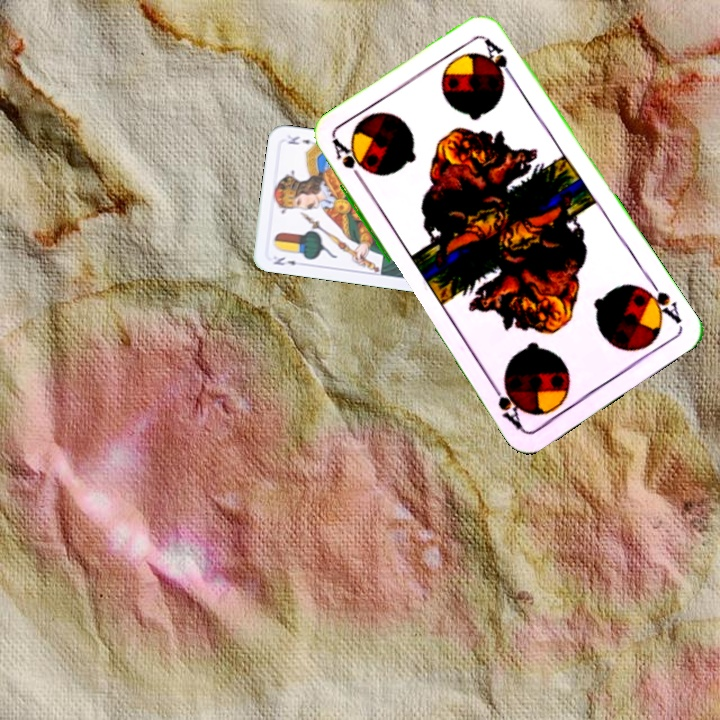EK: (269, 253, 298, 268)
SA: (636, 274, 684, 327), (329, 135, 369, 189)
